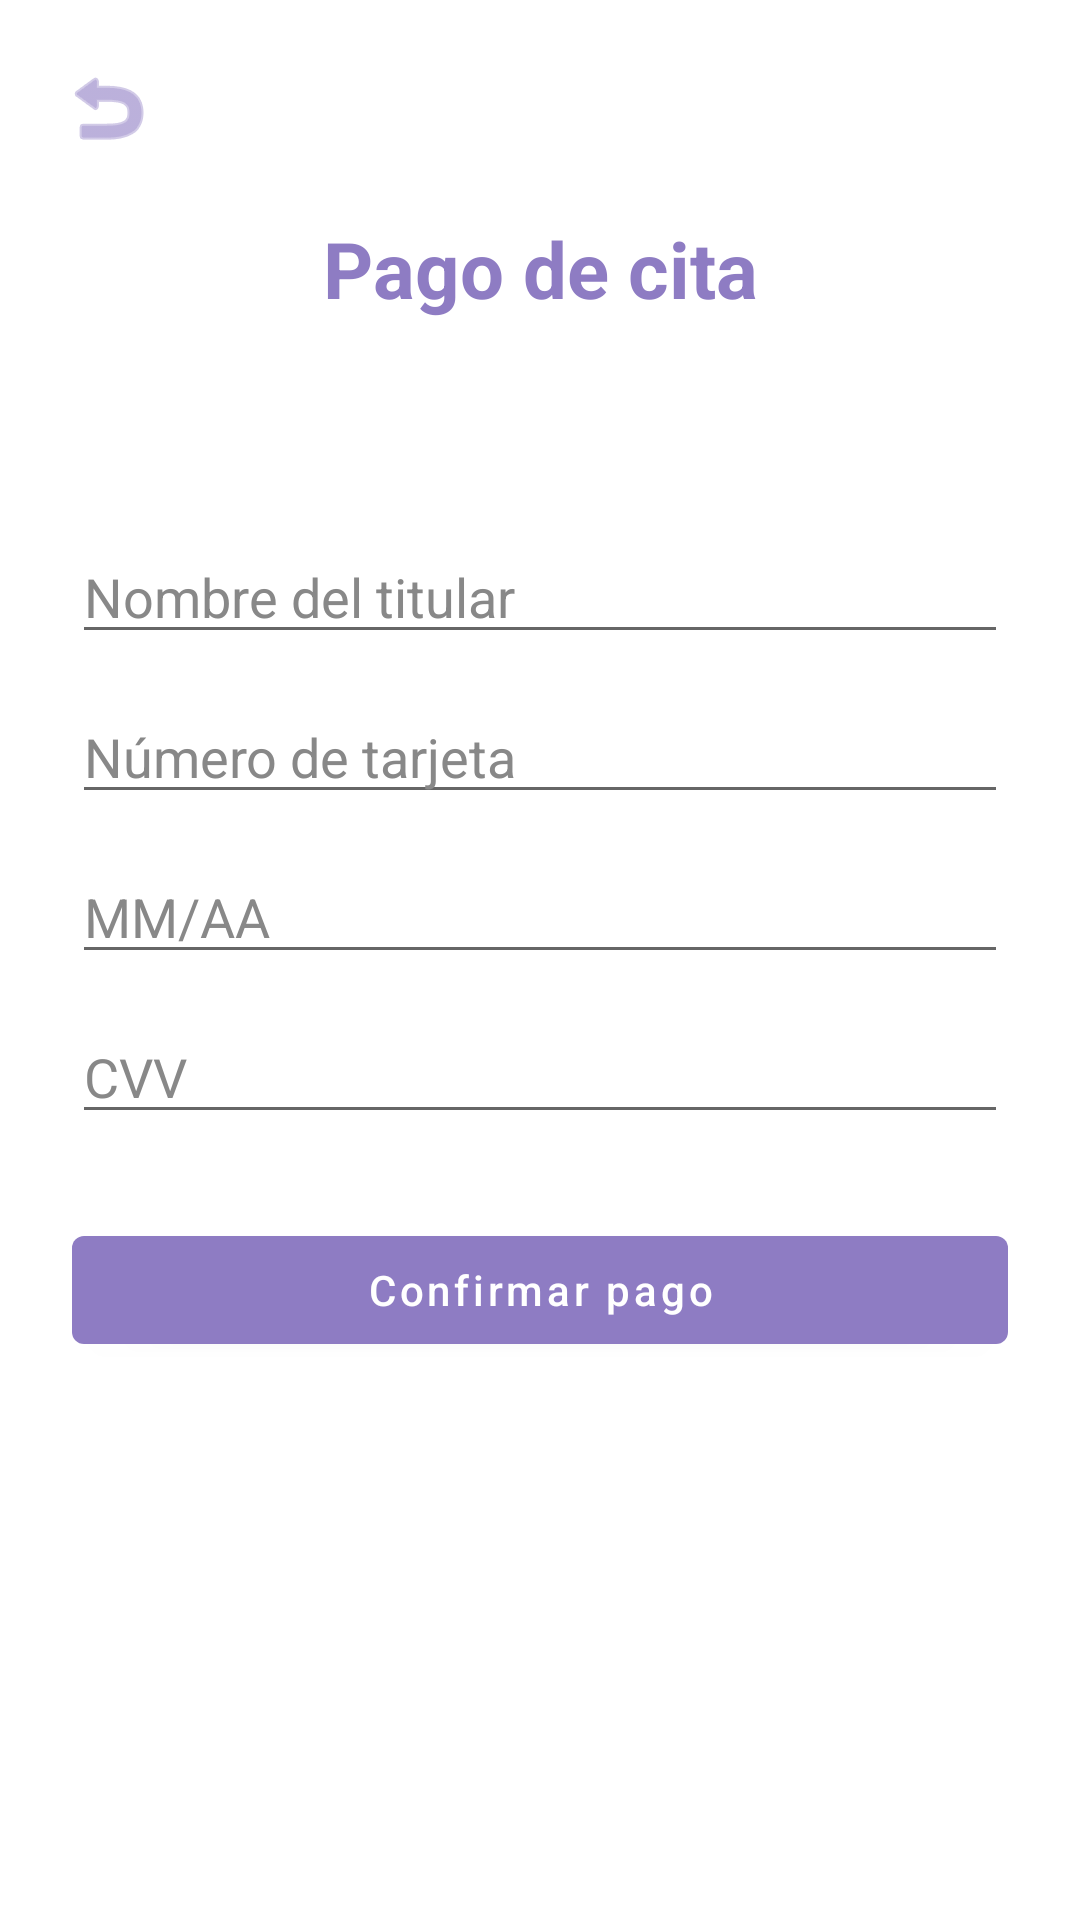

Icon bounding boxes for this 1080×1920 phone screenshot, format BBox(x1, y1, x2, y2):
Regresar: BBox(75, 78, 144, 140)
